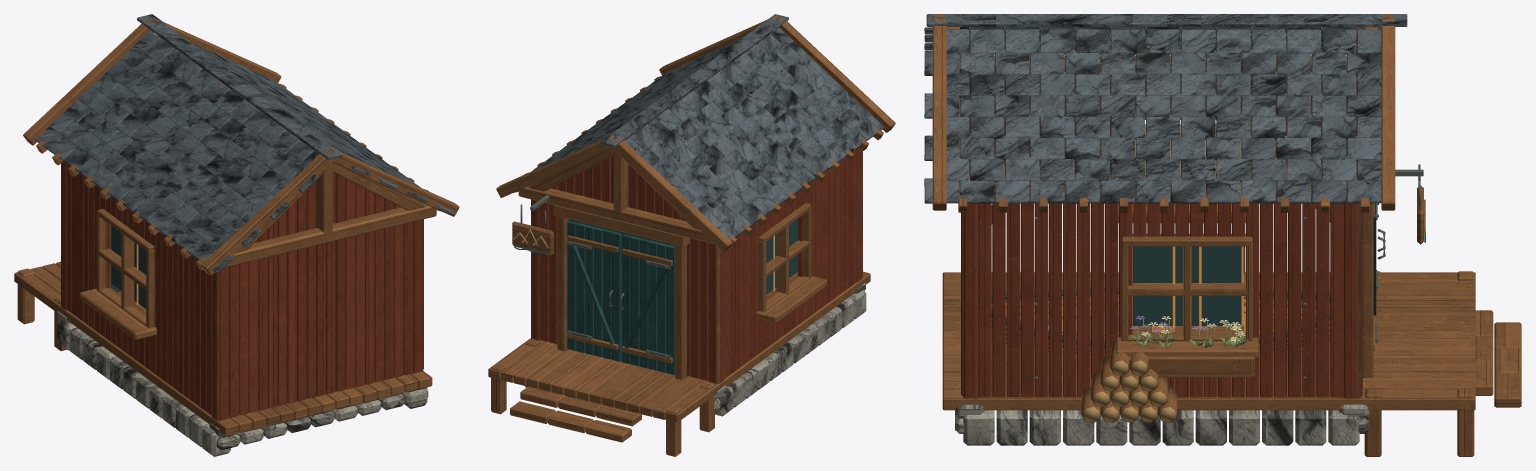
The model's file is lakeside.glb.
The picture shows the model from 3 angles, left to right: view 1: azimuth 30°, elevation 25°; view 2: azimuth 150°, elevation 25°; view 3: azimuth 270°, elevation 25°; orthographic projection. The views are drawn at different scales.
Visible parts, largest first — view 1: LakesideBoathouse_weathered_red_siding_PBR, LakesideBoathouse_mineral_slate_PBR, LakesideBoathouse_aged_structural_timber_PBR, LakesideBoathouse_granite_footing_PBR, LakesideBoathouse_recessed_dark_glazing; view 2: LakesideBoathouse_aged_structural_timber_PBR, LakesideBoathouse_mineral_slate_PBR, LakesideBoathouse_weathered_red_siding_PBR, LakesideBoathouse_worn_teal_door_and_gunwale_PBR, LakesideBoathouse_granite_footing_PBR, LakesideBoathouse_recessed_dark_glazing, LakesideBoathouse_forged_iron; view 3: LakesideBoathouse_mineral_slate_PBR, LakesideBoathouse_weathered_red_siding_PBR, LakesideBoathouse_aged_structural_timber_PBR, LakesideBoathouse_granite_footing_PBR, LakesideBoathouse_recessed_dark_glazing, LakesideBoathouse_pale_endgrain, LakesideBoathouse_warm_interior_hint, LakesideRowboat_honey_clinker_planks_PBR, LakesideBoathouse_sage_planter_foliage, LakesideBoathouse_forged_iron.
Boxes of the visible parts, x1=… form: LakesideBoathouse_weathered_red_siding_PBR: x1=61, y1=39, x2=423, y2=419; LakesideBoathouse_mineral_slate_PBR: x1=35, y1=14, x2=455, y2=273; LakesideBoathouse_aged_structural_timber_PBR: x1=14, y1=17, x2=459, y2=436; LakesideBoathouse_granite_footing_PBR: x1=57, y1=311, x2=428, y2=456; LakesideBoathouse_recessed_dark_glazing: x1=110, y1=225, x2=146, y2=308; LakesideBoathouse_aged_structural_timber_PBR: x1=488, y1=15, x2=895, y2=456; LakesideBoathouse_mineral_slate_PBR: x1=531, y1=14, x2=884, y2=239; LakesideBoathouse_weathered_red_siding_PBR: x1=531, y1=34, x2=862, y2=382; LakesideBoathouse_worn_teal_door_and_gunwale_PBR: x1=514, y1=220, x2=674, y2=374; LakesideBoathouse_granite_footing_PBR: x1=714, y1=283, x2=866, y2=416; LakesideBoathouse_recessed_dark_glazing: x1=569, y1=218, x2=797, y2=361; LakesideBoathouse_forged_iron: x1=520, y1=195, x2=670, y2=358; LakesideBoathouse_mineral_slate_PBR: x1=924, y1=14, x2=1407, y2=203; LakesideBoathouse_weathered_red_siding_PBR: x1=961, y1=29, x2=1362, y2=397; LakesideBoathouse_aged_structural_timber_PBR: x1=932, y1=15, x2=1521, y2=456; LakesideBoathouse_granite_footing_PBR: x1=955, y1=404, x2=1369, y2=445; LakesideBoathouse_recessed_dark_glazing: x1=1133, y1=124, x2=1241, y2=325; LakesideBoathouse_pale_endgrain: x1=1083, y1=199, x2=1425, y2=422; LakesideBoathouse_warm_interior_hint: x1=1132, y1=125, x2=1243, y2=327; LakesideRowboat_honey_clinker_planks_PBR: x1=991, y1=294, x2=1330, y2=357; LakesideBoathouse_sage_planter_foliage: x1=1131, y1=319, x2=1248, y2=348; LakesideBoathouse_forged_iron: x1=1034, y1=164, x2=1423, y2=379.
Size of the model in its own units: 3.82 by 4.15 by 5.94.
Materials: 14 (6 with a texture image).
